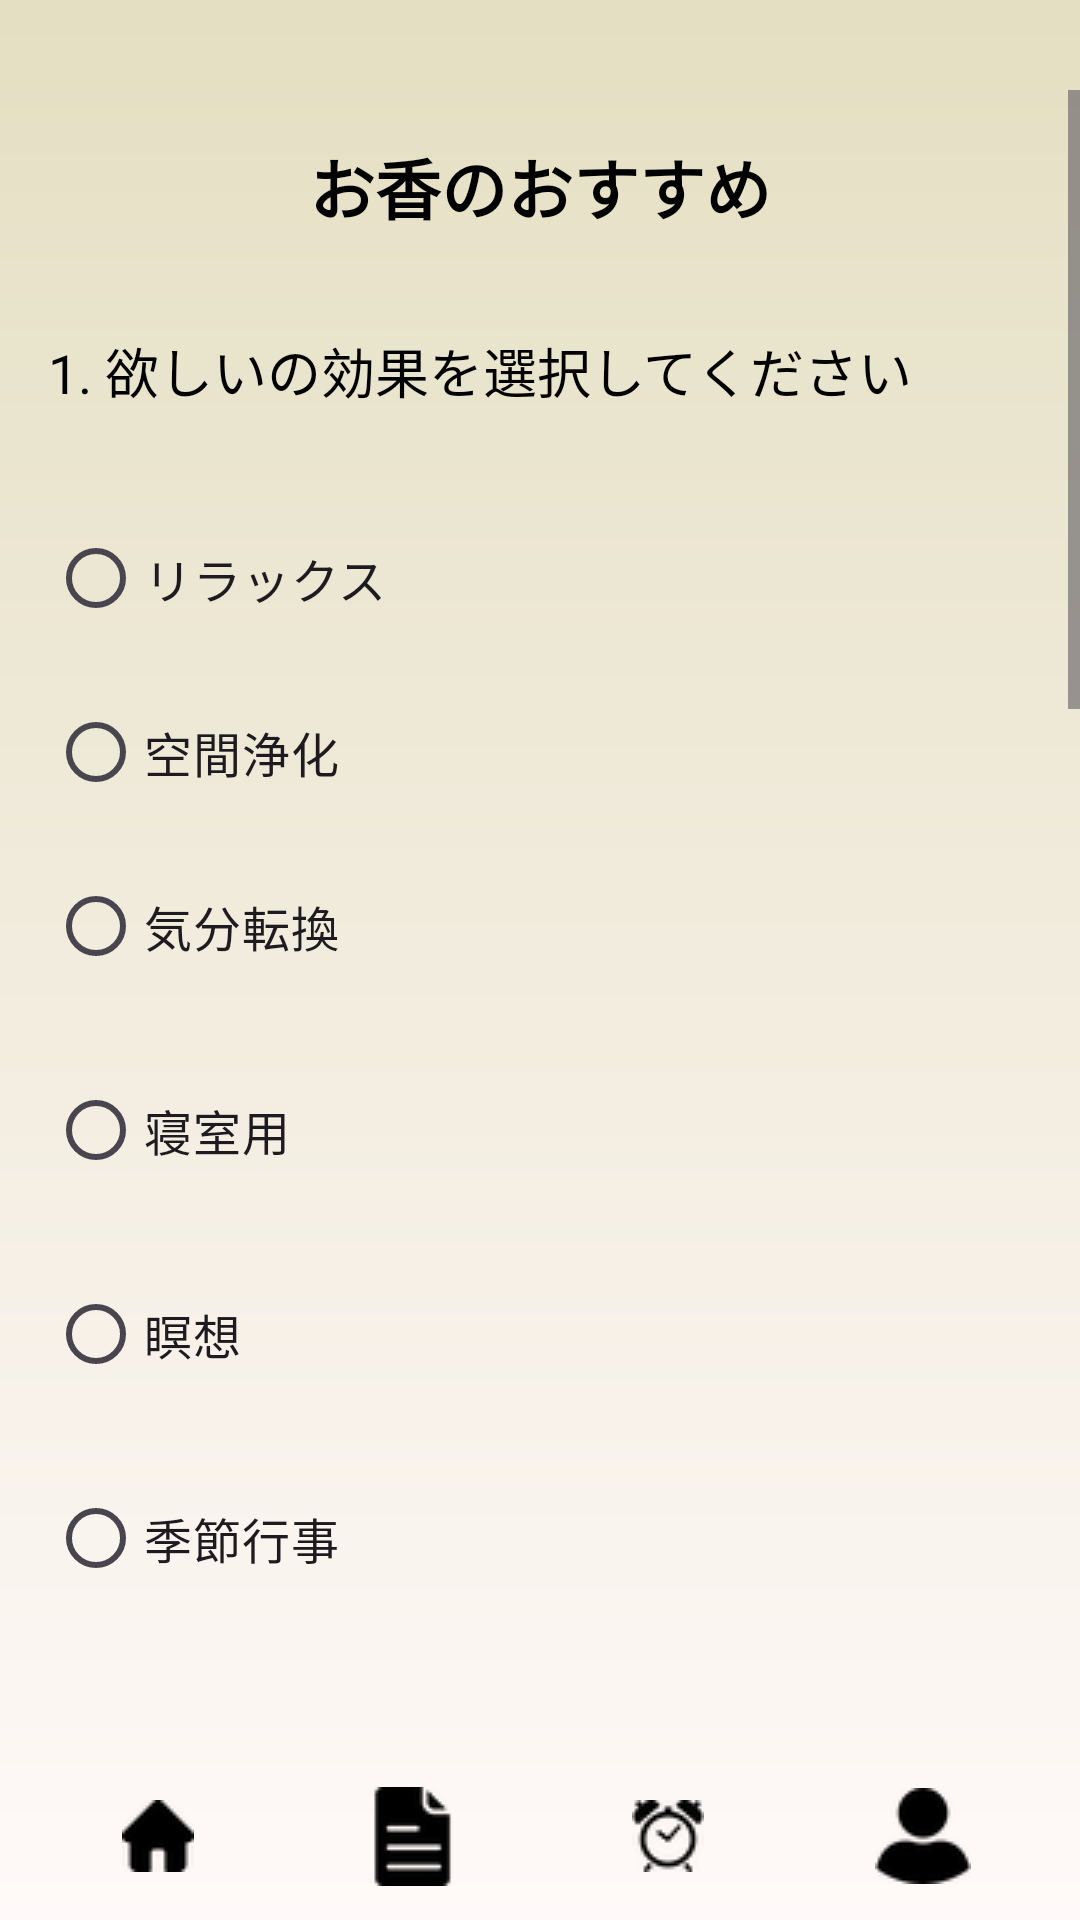

Where to tap for icons on this 1080×1920 app screen, as (x,y):
alarm: (668,1836)
home: (158,1836)
page: (412,1836)
user: (923,1836)
